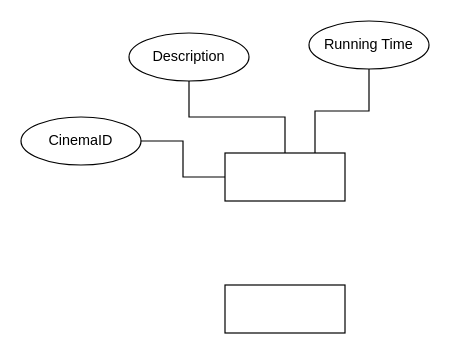
The diagram is 450 pixels wide and 354 high, and some of its shapes have lost their labels. Each missing label, with the centre of its shape:
"Attendant" goes at [284,308].
"Cinema" goes at [284,176].
